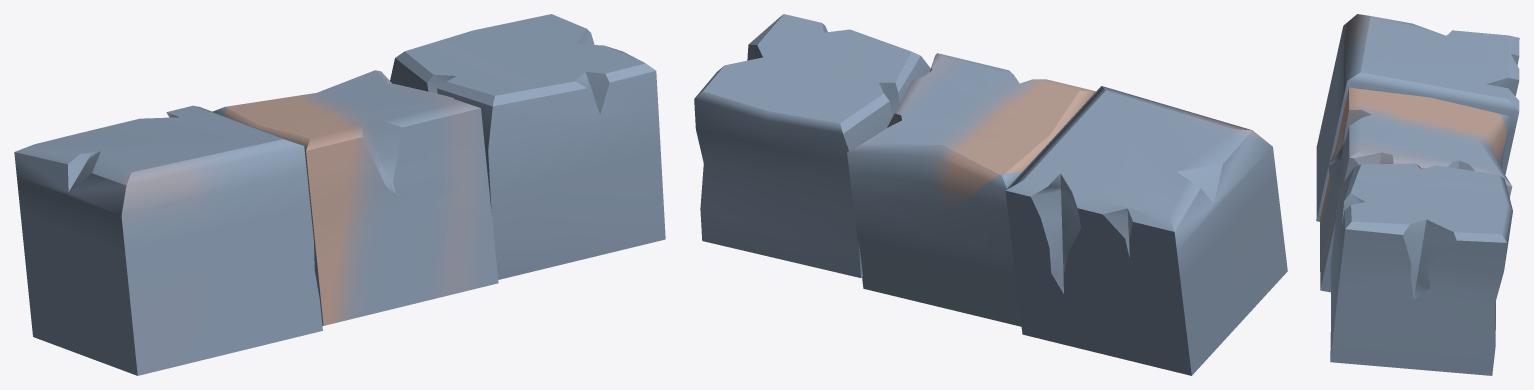
The model's file is Map2Boxextend.fbx.
The picture shows the model from 3 angles, left to right: view 1: azimuth 30°, elevation 25°; view 2: azimuth 150°, elevation 25°; view 3: azimuth 270°, elevation 25°; orthographic projection. The views are drawn at different scales.
Visible parts, largest first — view 1: polySurface139, polySurface141, polySurface140; view 2: polySurface139, polySurface140, polySurface141; view 3: polySurface141, polySurface139, polySurface140.
Boxes of the visible parts, <box> form: polySurface139: <box>14,105,322,375</box>; polySurface141: <box>390,14,665,279</box>; polySurface140: <box>212,70,498,325</box>; polySurface139: <box>1005,86,1287,375</box>; polySurface140: <box>847,53,1095,326</box>; polySurface141: <box>694,14,930,277</box>; polySurface141: <box>1330,163,1512,375</box>; polySurface139: <box>1316,14,1519,221</box>; polySurface140: <box>1319,87,1512,292</box>.
Size of the model in its own units: 22.8 by 8.61 by 9.07.
